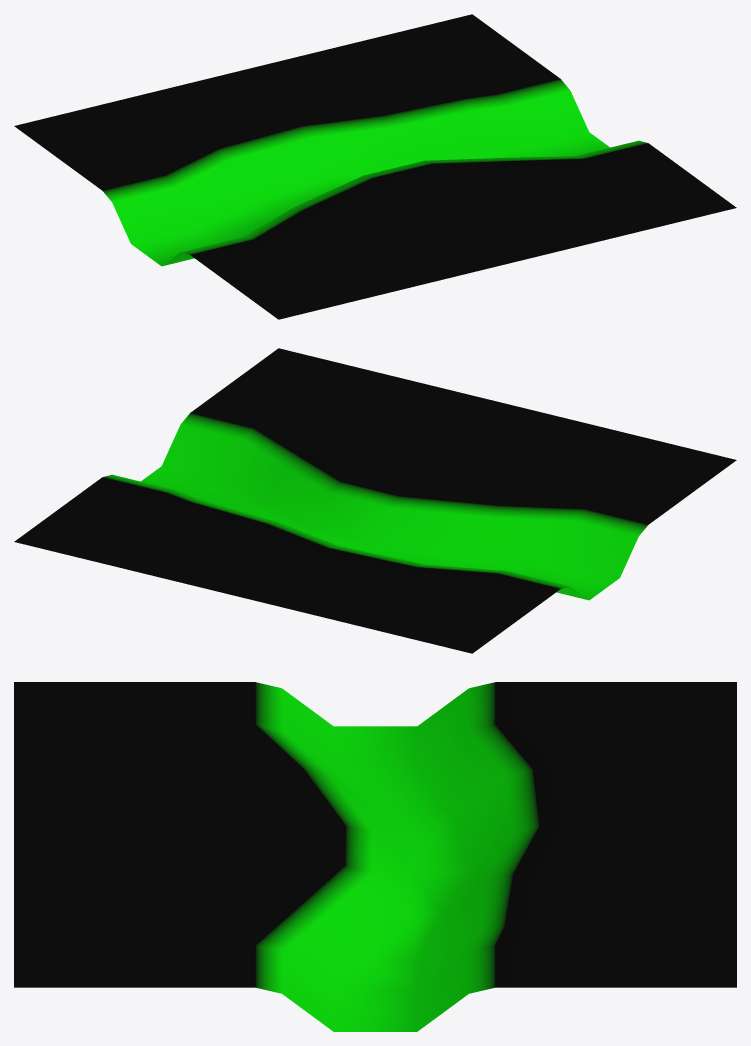
File: SM_Ground_16m_RiverCurve.FBX
The picture shows the model from 3 angles, top to bottom: view 1: azimuth 30°, elevation 25°; view 2: azimuth 150°, elevation 25°; view 3: azimuth 270°, elevation 25°; orthographic projection. The views are drawn at different scales.
Parts seen in each view (by area): view 1: SM_Ground_16m_RiverCurve; view 2: SM_Ground_16m_RiverCurve; view 3: SM_Ground_16m_RiverCurve.
Part boxes in pixels (box(x1,y1,x2,y2)): SM_Ground_16m_RiverCurve: box(14, 14, 736, 319); SM_Ground_16m_RiverCurve: box(14, 348, 736, 653); SM_Ground_16m_RiverCurve: box(14, 682, 736, 1031).
Bounding box in the file's own units: 1600 × 1600 × 108.
